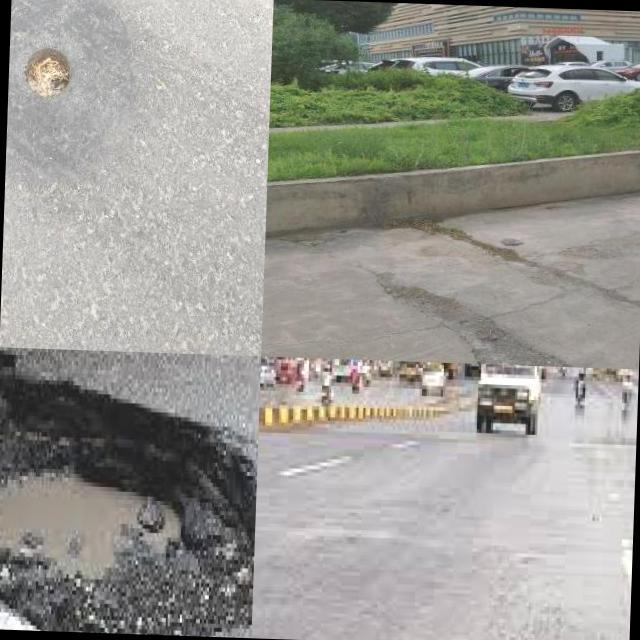Pothole: (0, 353, 257, 637), (390, 284, 572, 367), (23, 46, 71, 95)
